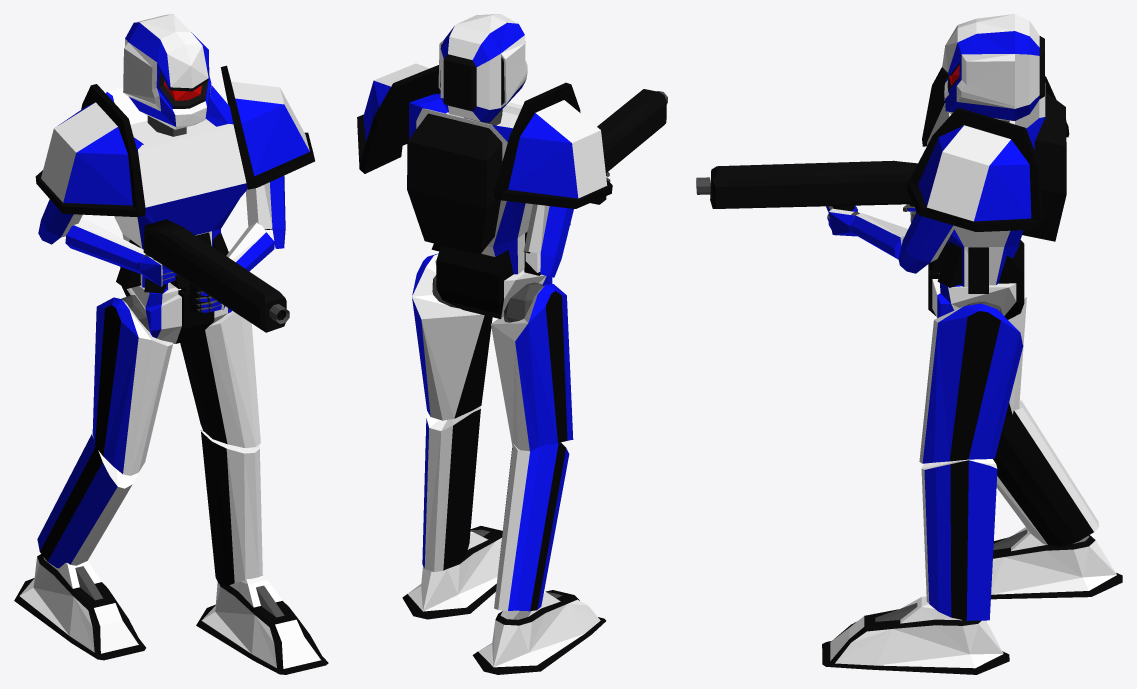
The model's file is robot_animation_000008.obj.
3 renders of one model, left to right at view 1: azimuth 30°, elevation 25°; view 2: azimuth 150°, elevation 25°; view 3: azimuth 270°, elevation 25°, orthographic.
Visible parts, largest first — view 1: Chest_plate_Cube.004, R_Thigh_Cube.005, Cube.002_Cube.059, Head_base_Cube.022, R_Thigh.002_Cube.027, R_Foot_Cube, R_Shin.002_Cube.029, R_Foot.002_Cube.035, Cube_Cube.001, R_Shin_Cube.007, Cube_Cube.021, Pelvis_Cube.006 (+5 smaller); view 2: Chest_plate_Cube.004, Cube.002_Cube.059, R_Thigh_Cube.005, R_Shin_Cube.007, R_Thigh.002_Cube.027, Head_base_Cube.022, R_Shin.002_Cube.029, R_Foot_Cube, Cube_Cube.021, R_Foot.002_Cube.035, Pelvis_Cube.006, Cube_Cube.001 (+2 smaller); view 3: Cube_Cube.021, R_Thigh.002_Cube.027, R_Shin.002_Cube.029, R_Foot.002_Cube.035, Head_base_Cube.022, Cube_Cube.001, Chest_plate_Cube.004, R_Shin_Cube.007, R_Foot_Cube, Pelvis_Cube.006, L_Arm_Cube.014, L_Forearm_Cube.020 (+3 smaller).
Boxes of the visible parts, x1,y1,x2,y2 form: Chest_plate_Cube.004: (106, 85, 247, 293); R_Thigh_Cube.005: (92, 297, 173, 475); Cube.002_Cube.059: (35, 84, 145, 217); Head_base_Cube.022: (123, 14, 211, 129); R_Thigh.002_Cube.027: (180, 311, 260, 447); R_Foot_Cube: (14, 554, 145, 660); R_Shin.002_Cube.029: (200, 429, 262, 586); R_Foot.002_Cube.035: (196, 576, 328, 674); Cube_Cube.001: (143, 219, 289, 332); R_Shin_Cube.007: (37, 433, 141, 568); Cube_Cube.021: (220, 65, 314, 189); Pelvis_Cube.006: (120, 267, 231, 343); Chest_plate_Cube.004: (407, 93, 540, 275); Cube.002_Cube.059: (493, 82, 612, 208); R_Thigh_Cube.005: (490, 284, 573, 451); R_Shin_Cube.007: (494, 442, 569, 611); R_Thigh.002_Cube.027: (412, 253, 492, 420); Head_base_Cube.022: (438, 14, 527, 122); R_Shin.002_Cube.029: (422, 406, 480, 571); R_Foot_Cube: (472, 590, 605, 674); Cube_Cube.021: (357, 63, 440, 173); R_Foot.002_Cube.035: (402, 526, 502, 619); Pelvis_Cube.006: (435, 245, 552, 319); Cube_Cube.001: (590, 89, 667, 204); Cube_Cube.021: (907, 108, 1044, 231); R_Thigh.002_Cube.027: (919, 303, 1023, 463); R_Shin.002_Cube.029: (921, 459, 997, 620); R_Foot.002_Cube.035: (822, 596, 1009, 674); Head_base_Cube.022: (942, 14, 1044, 120); Cube_Cube.001: (696, 160, 917, 212); Chest_plate_Cube.004: (927, 82, 1066, 293); R_Shin_Cube.007: (993, 400, 1098, 546); R_Foot_Cube: (991, 527, 1122, 599); Pelvis_Cube.006: (928, 240, 1024, 319); L_Arm_Cube.014: (898, 212, 955, 273); L_Forearm_Cube.020: (851, 213, 907, 259).
Size of the model in its own units: 1.32 by 3.03 by 1.92.
